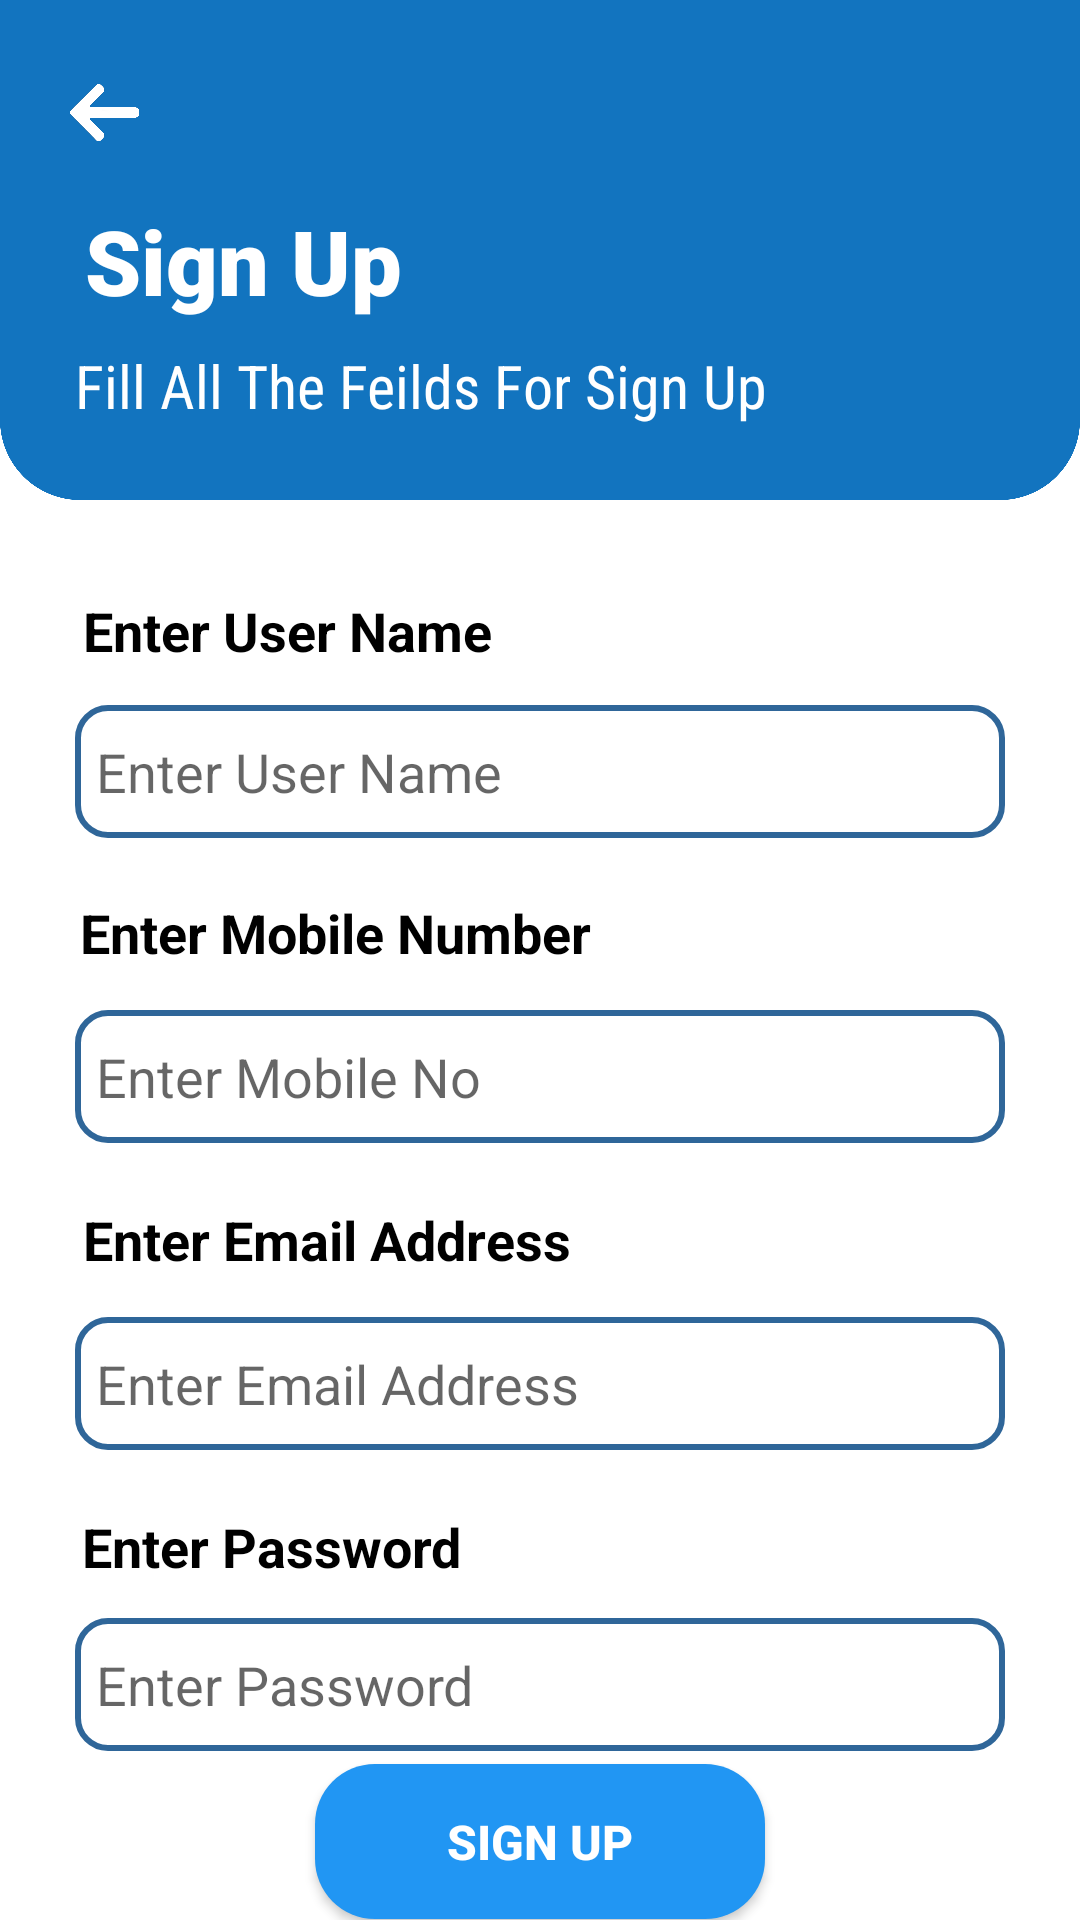

Named icons in this screenshot (1080 x 1920) and their bounding boxes, {"x1": x1, "y1": y1, "x2": x2, "y2": y2}:
back: {"x1": 70, "y1": 84, "x2": 139, "y2": 141}
